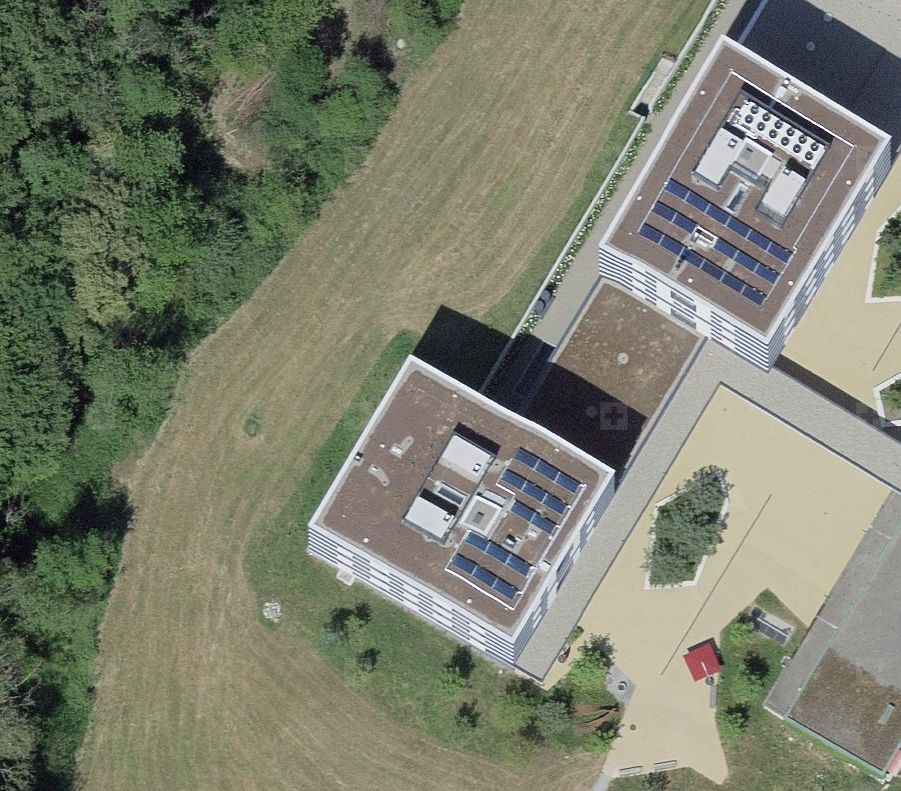solar: (438, 437, 592, 618), (627, 170, 803, 315), (476, 433, 594, 546), (424, 521, 549, 617)
